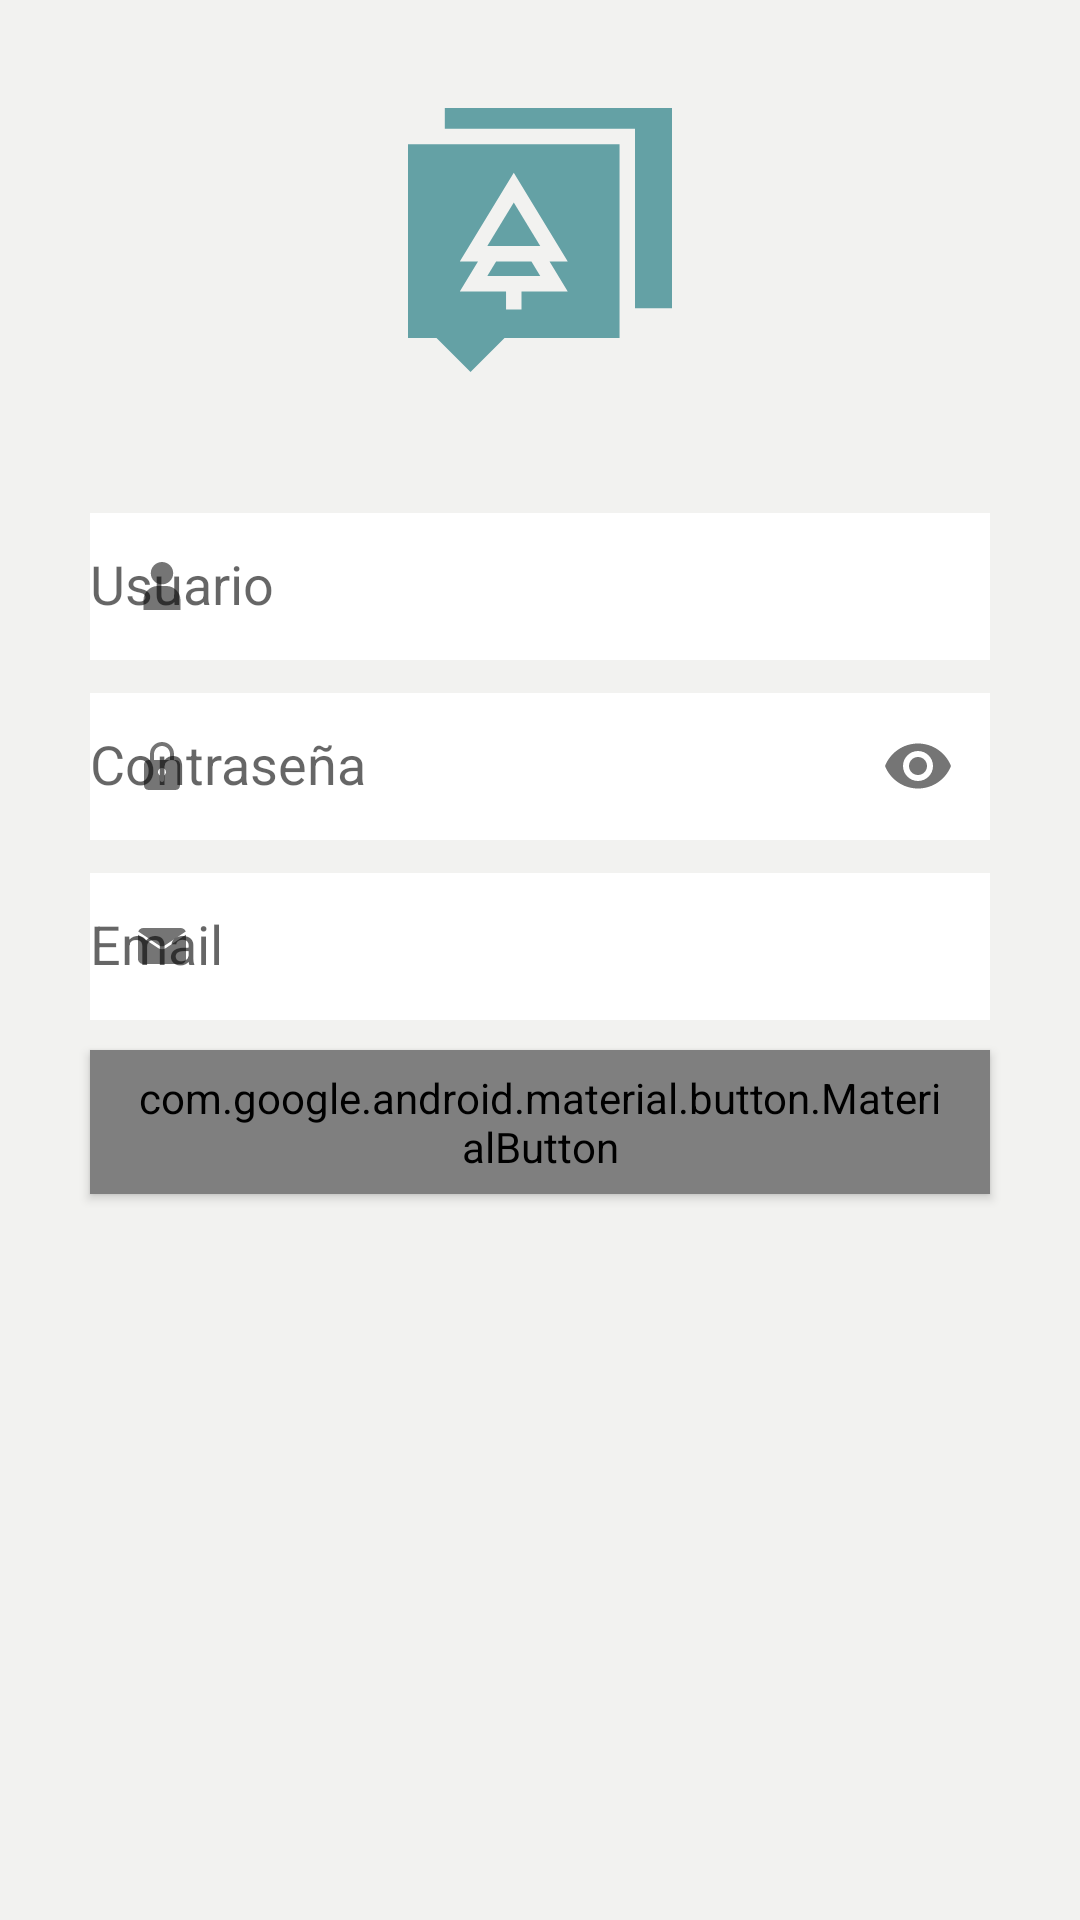

Icons on this 1080 × 1920 Android screen, each with its box as (x1, y1, x2, y2):
arbol: (408, 108, 672, 372)
